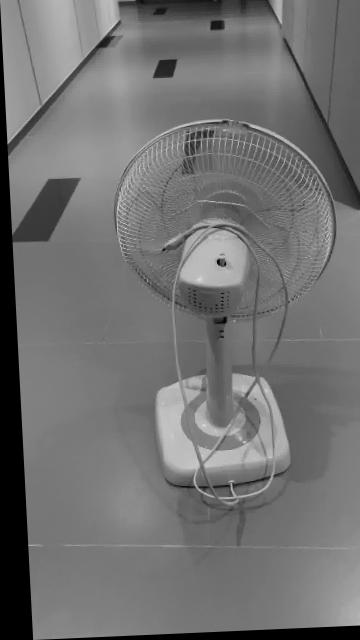Fan: (112, 121, 334, 493)
